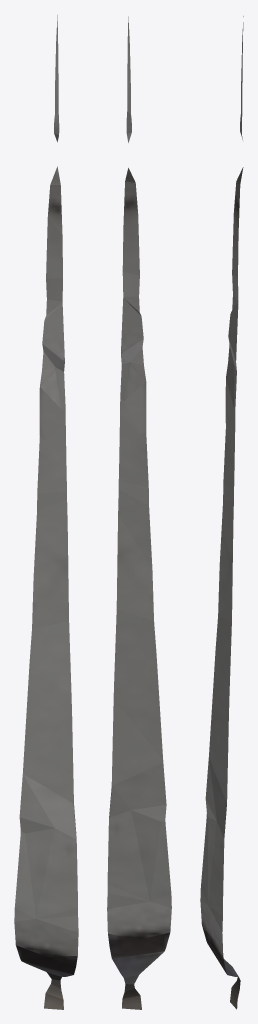
3 renders of one model, left to right at view 1: azimuth 30°, elevation 25°; view 2: azimuth 210°, elevation 25°; view 3: azimuth 330°, elevation 25°, orthographic.
Bounding box in the file's own units: 0.065 × 1.43 × 0.0551.
1 material, 1 textured.
